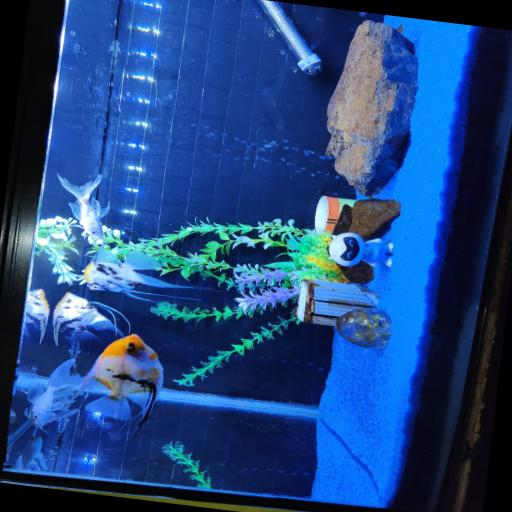Fish: (79, 333, 163, 427), (84, 246, 209, 301), (25, 358, 83, 429), (54, 291, 125, 343), (57, 174, 110, 238), (25, 288, 50, 341), (16, 436, 47, 470), (10, 409, 17, 422)
